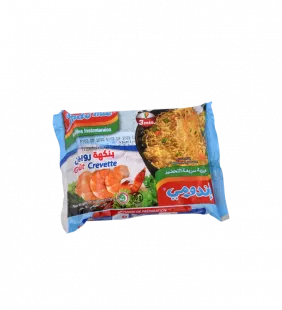INDOMIE: (43, 91, 237, 244)
